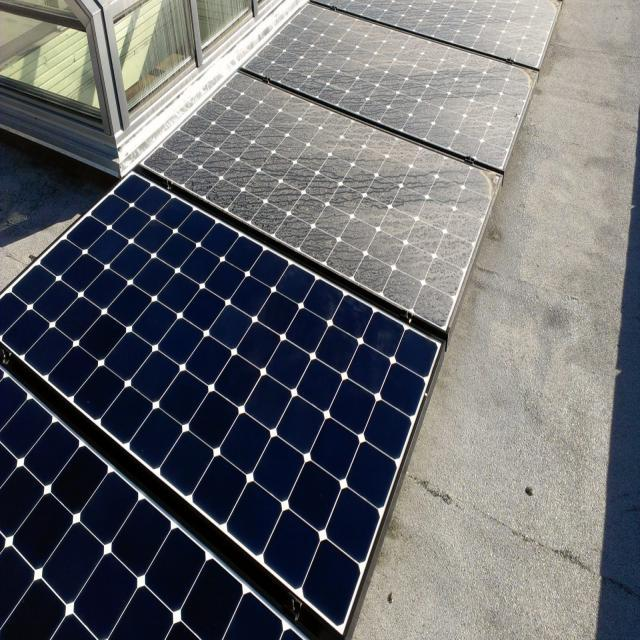faulty: (143, 77, 497, 323), (245, 10, 532, 180)
no faulty: (0, 170, 433, 622), (2, 378, 290, 635)
